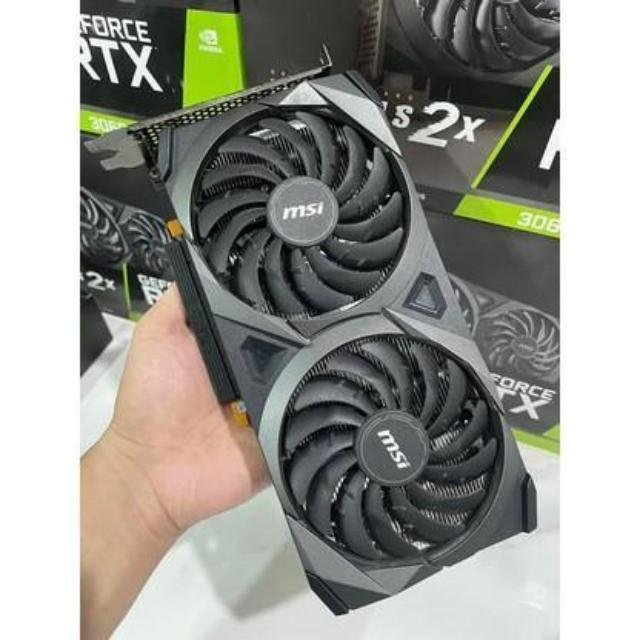GPU: (156, 60, 542, 615)
